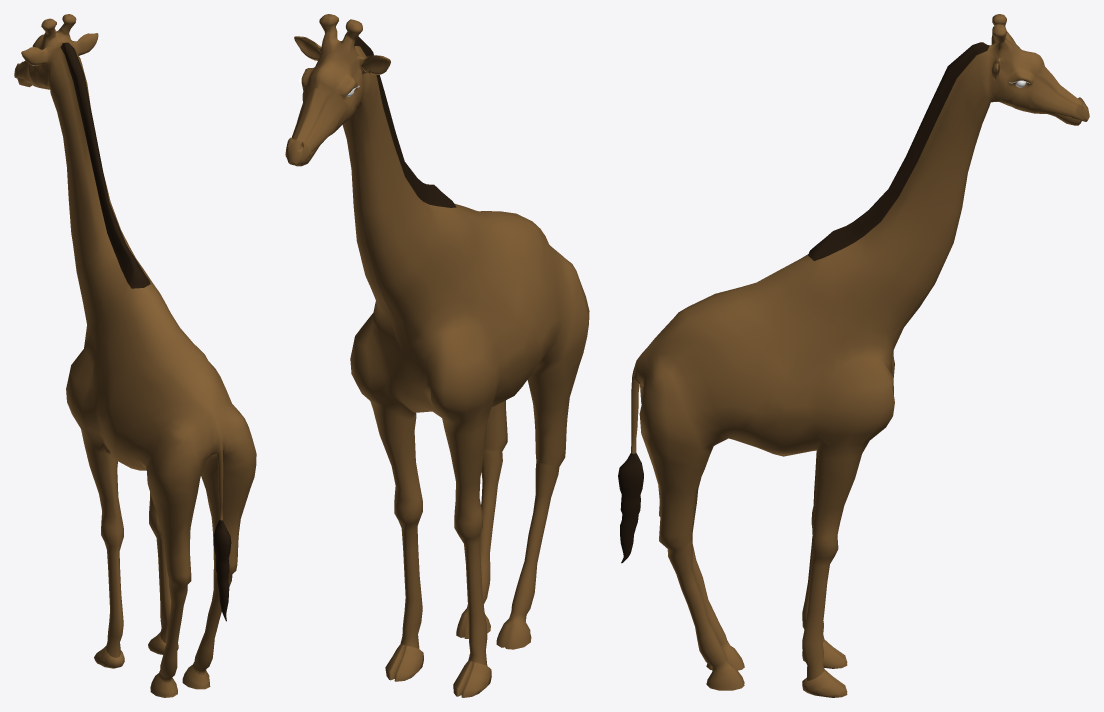
Rendered from Giraffe.obj.
The picture shows the model from 3 angles, left to right: view 1: azimuth 30°, elevation 25°; view 2: azimuth 150°, elevation 25°; view 3: azimuth 270°, elevation 25°; orthographic projection. The views are drawn at different scales.
Visible parts, largest first — view 1: Giraffe3 Giraffe2; view 2: Giraffe3 Giraffe2; view 3: Giraffe3 Giraffe2.
Boxes of the visible parts, x1,y1,x2,y2 form: Giraffe3 Giraffe2: (14, 14, 256, 697); Giraffe3 Giraffe2: (285, 14, 589, 697); Giraffe3 Giraffe2: (618, 14, 1089, 697).
Size of the model in its own units: 4.36 by 23.28 by 15.11.
